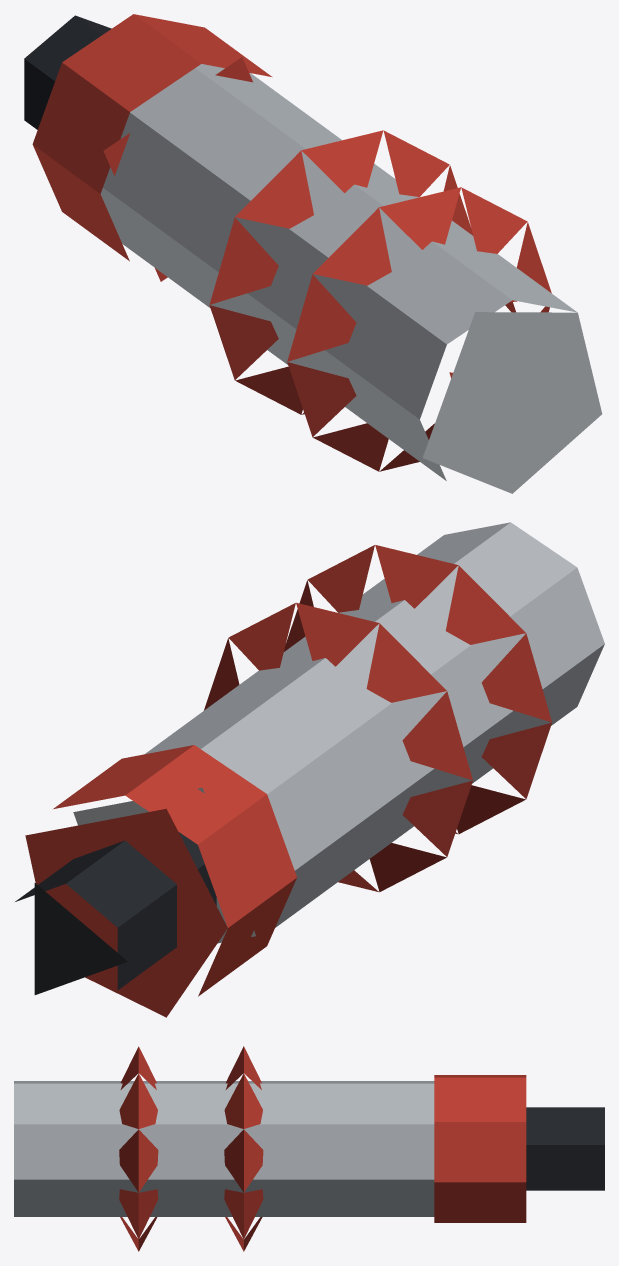
The model's file is stim-strength.lod.glb.
3 views of the same model, one above another, from view 1: azimuth 30°, elevation 25°; view 2: azimuth 150°, elevation 25°; view 3: azimuth 270°, elevation 25° (orthographic). The views are drawn at different scales.
Parts seen in each view (by area): view 1: m; view 2: m; view 3: m.
Boxes of the visible parts, x1,y1,x2,y2 form: m: (24, 14, 602, 493); m: (15, 522, 604, 1017); m: (14, 1046, 604, 1251).
Bounding box in the file's own units: 0.0235 × 0.0224 × 0.0669.
